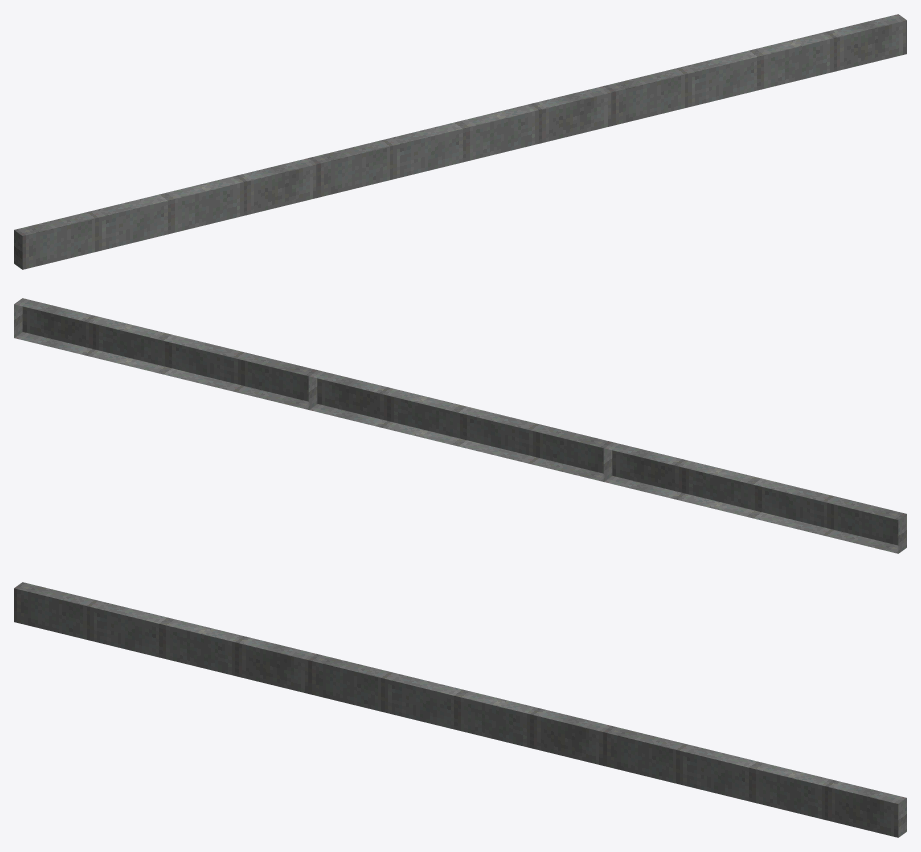
Rendered from wall_cladding_6m_narrow_01.gltf.
3 views of the same model, one above another, from view 1: azimuth 30°, elevation 25°; view 2: azimuth 150°, elevation 25°; view 3: azimuth 330°, elevation 25° (orthographic).
Parts seen in each view (by area): view 1: wall_cladding_6m_narrow_01; view 2: wall_cladding_6m_narrow_01; view 3: wall_cladding_6m_narrow_01.
Boxes of the visible parts, bbox=[...] form: wall_cladding_6m_narrow_01: bbox=[14, 14, 906, 269]; wall_cladding_6m_narrow_01: bbox=[14, 298, 906, 553]; wall_cladding_6m_narrow_01: bbox=[14, 582, 906, 837].
Bounding box in the file's own units: 6 × 0.2188 × 0.1.
Materials: 1 (1 with a texture image).
